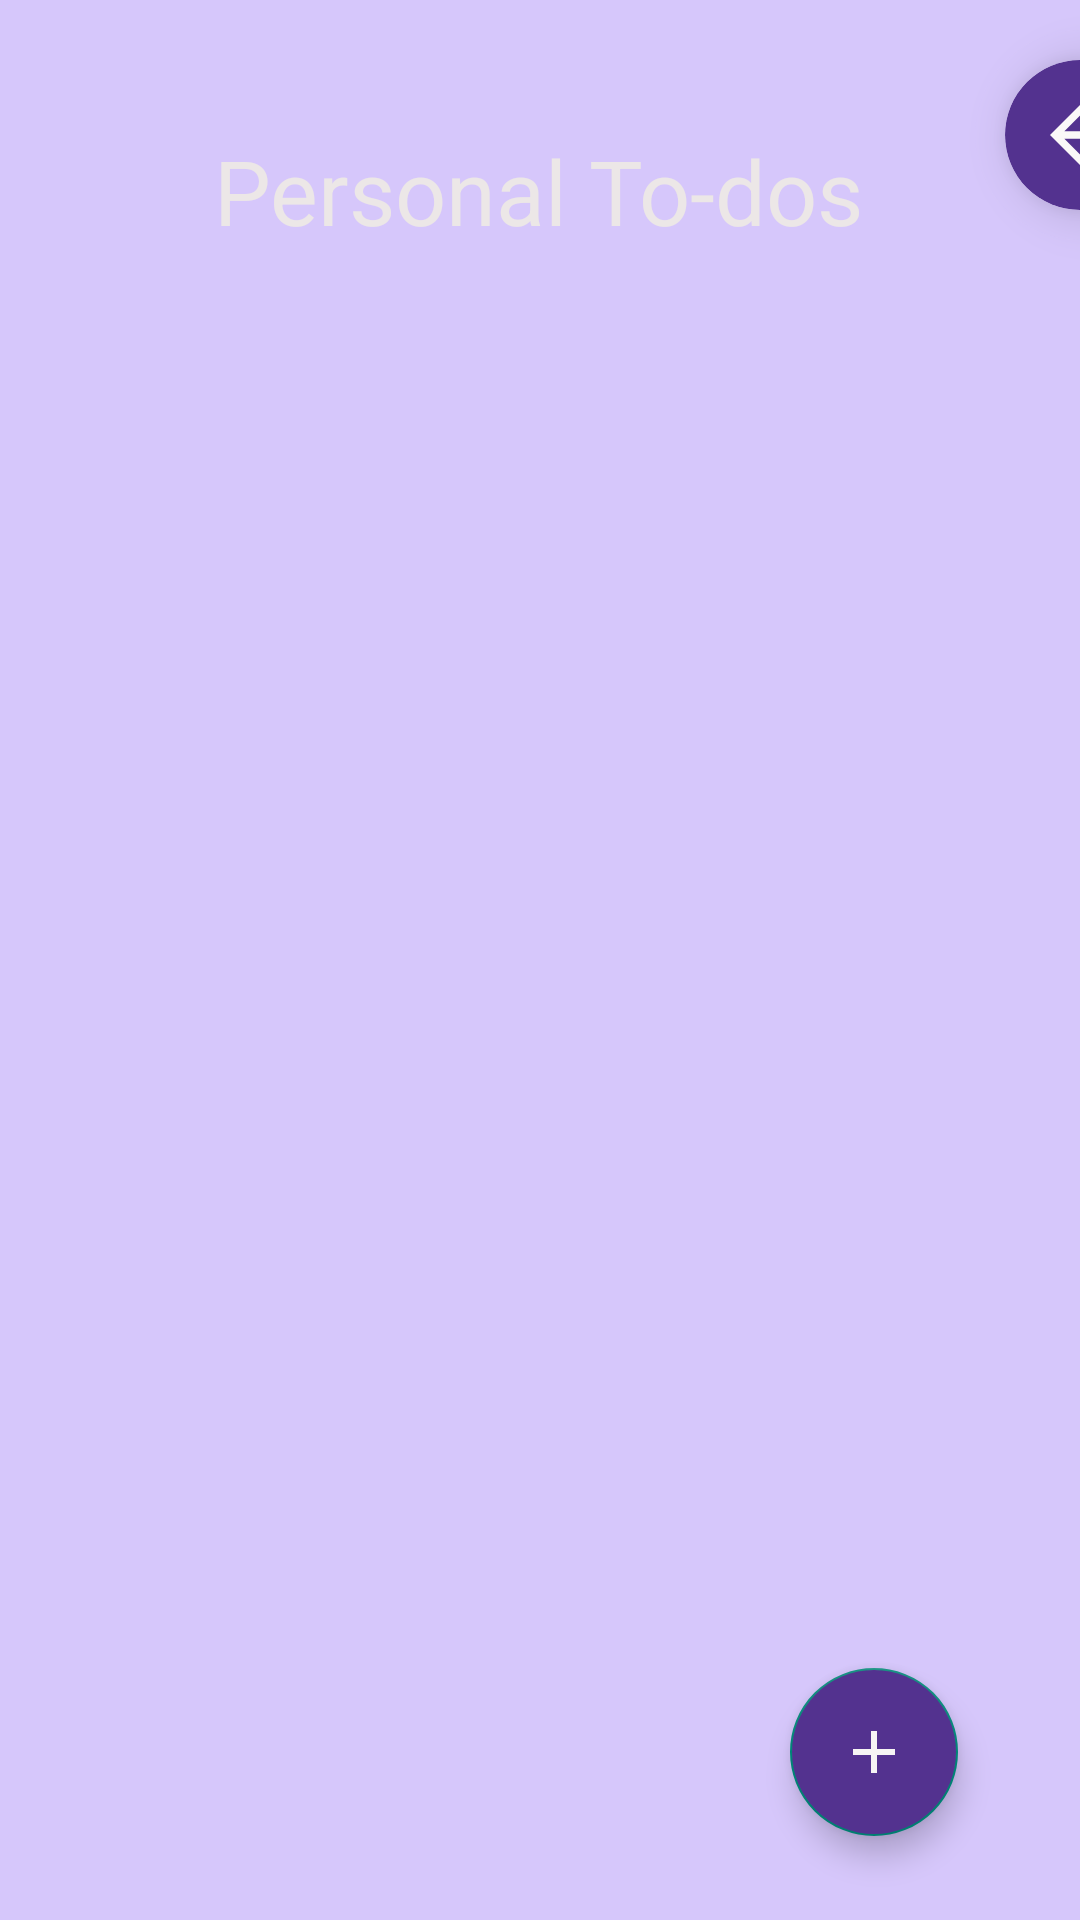

Locate icon controls on the screen. Image size 1080×1920, boxes as (x1, y1, x2, y2).
add: (790, 1668, 958, 1836)
